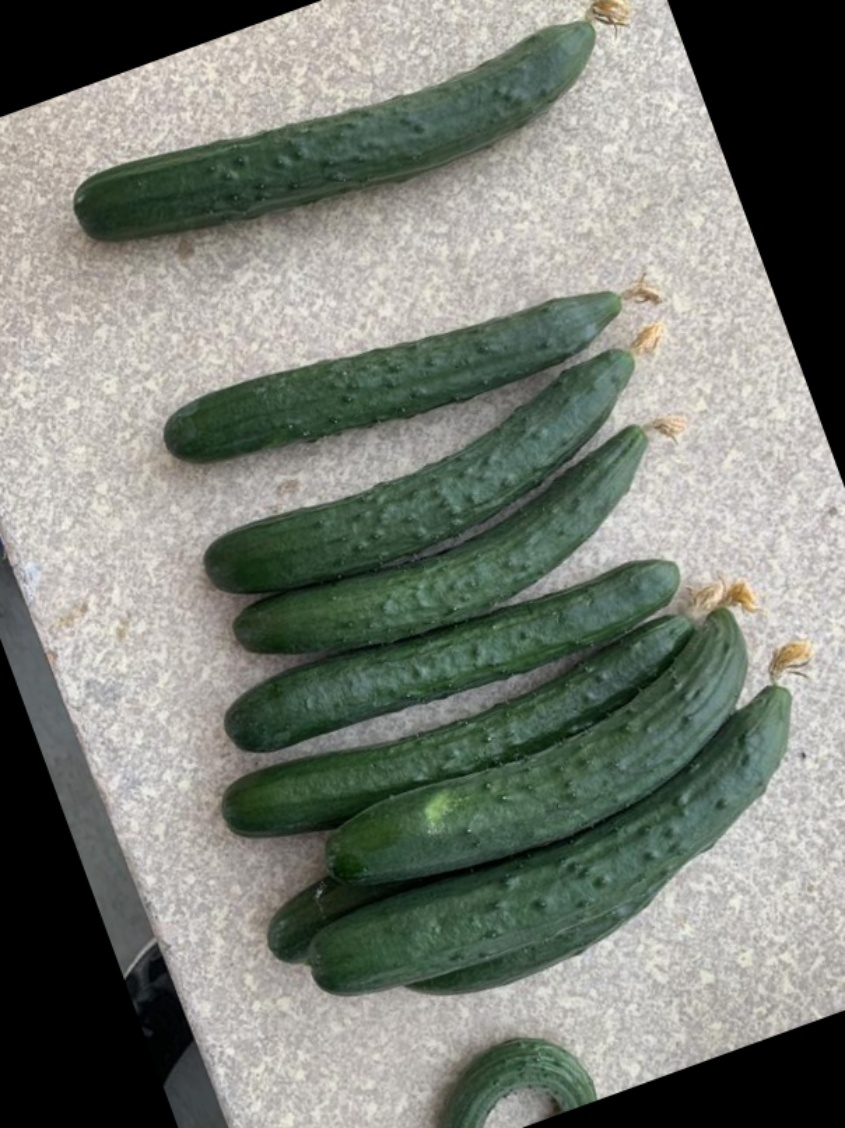mature: (316, 691, 796, 995)
